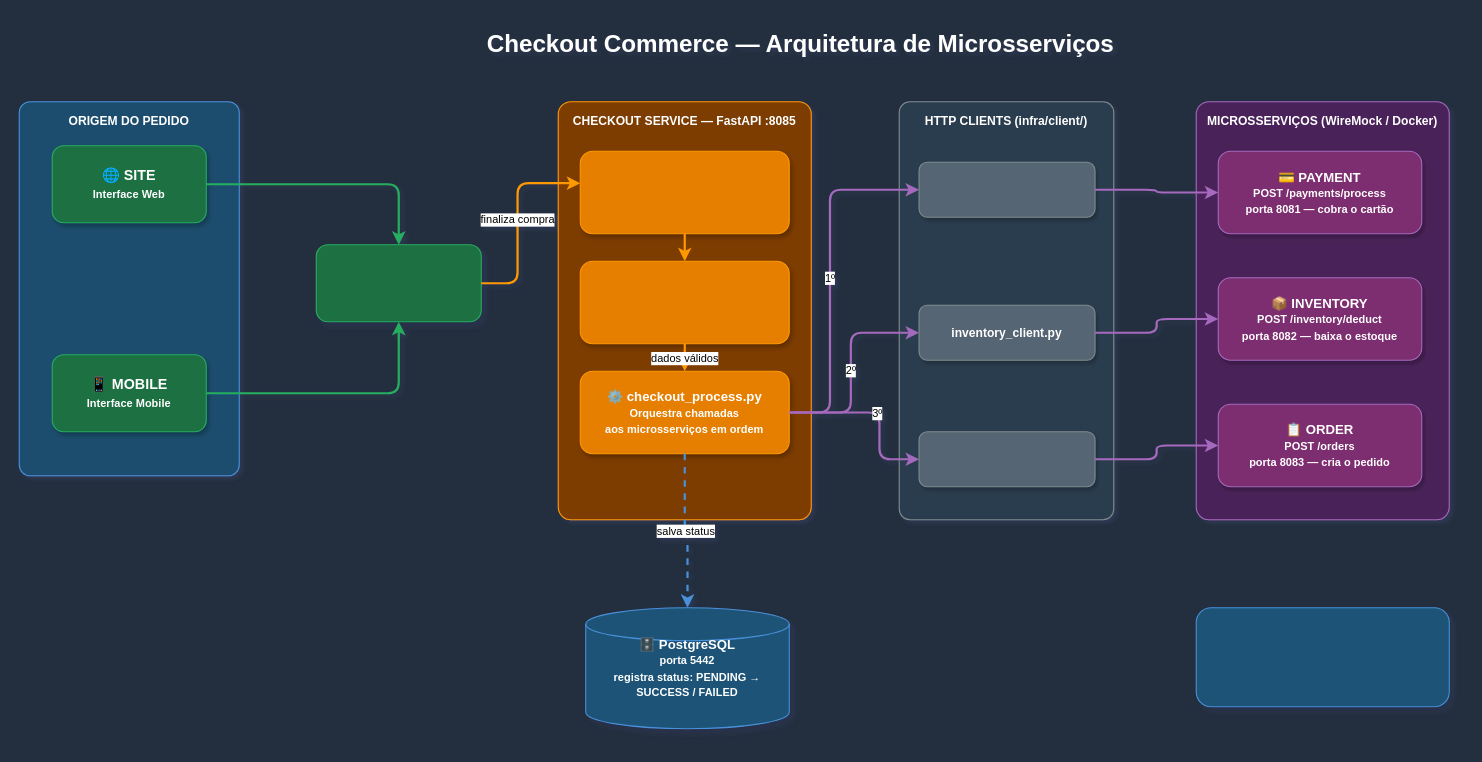
Image size: 1482x762. Some labels were removed from this diagram. The centre of each missing label's shape, as x and y in pixels:
Ciclo de vida PENDING → payment → inventory → order → SUCCESS / FAILED: (x=1323, y=658)
order_client.py: (x=1008, y=460)
payment_client.py: (x=1008, y=191)
✅ Pydantic checkout_request.py Valida dados — erro 422 se inválido: (x=685, y=303)
🔀 router.py POST /checkout/process Recebe e valida a requisição: (x=685, y=193)
🛒 CARRINHO Agrupa itens e inicia o checkout: (x=399, y=284)
